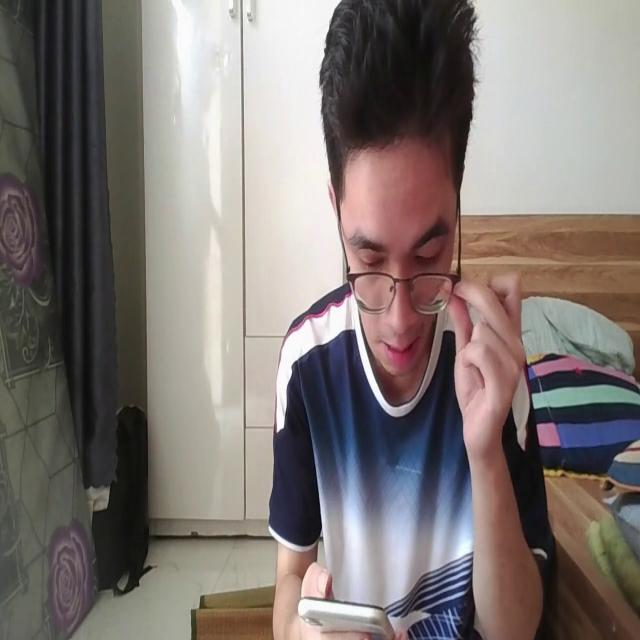phone: (297, 584, 395, 640)
student: (268, 0, 552, 640)
